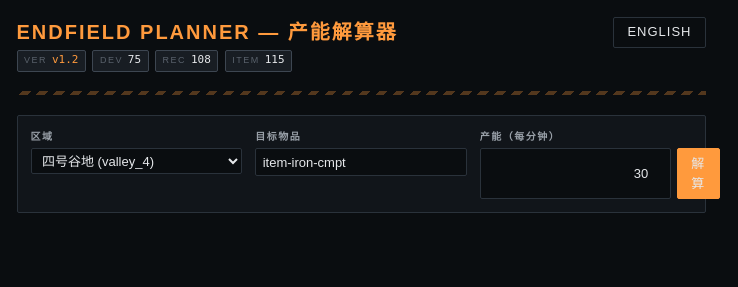
Scenario: SolverPanel › shows a validation message when rate is invalid
Expected: the heading "Endfield Planner — 产能解算器" is shown, [16,16,398,46]
Replace the text in the number field with "0" at (575, 174), box [480,148,671,199]
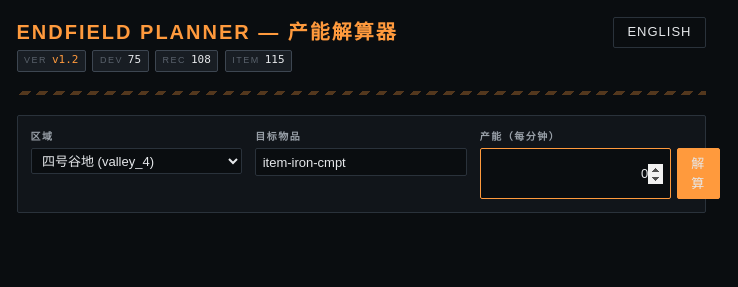
Click the button "解算".
click(699, 174)  # box [677,148,720,199]
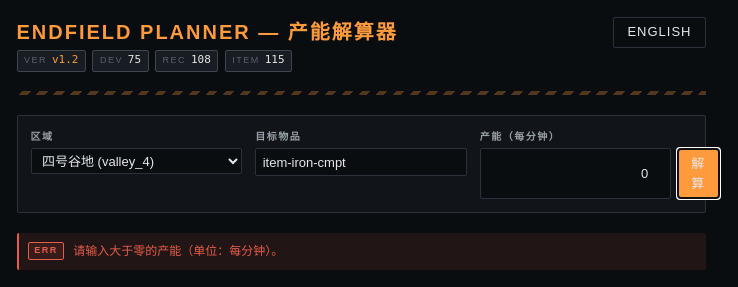
Expected: the text "ERR 请输入大于零的产能（单位：每分钟）。" is shown, [16,233,706,270]
